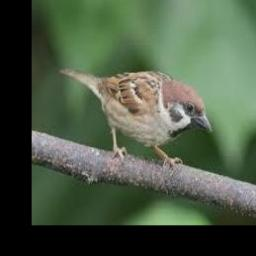Sparrow: (58, 68, 212, 168)
